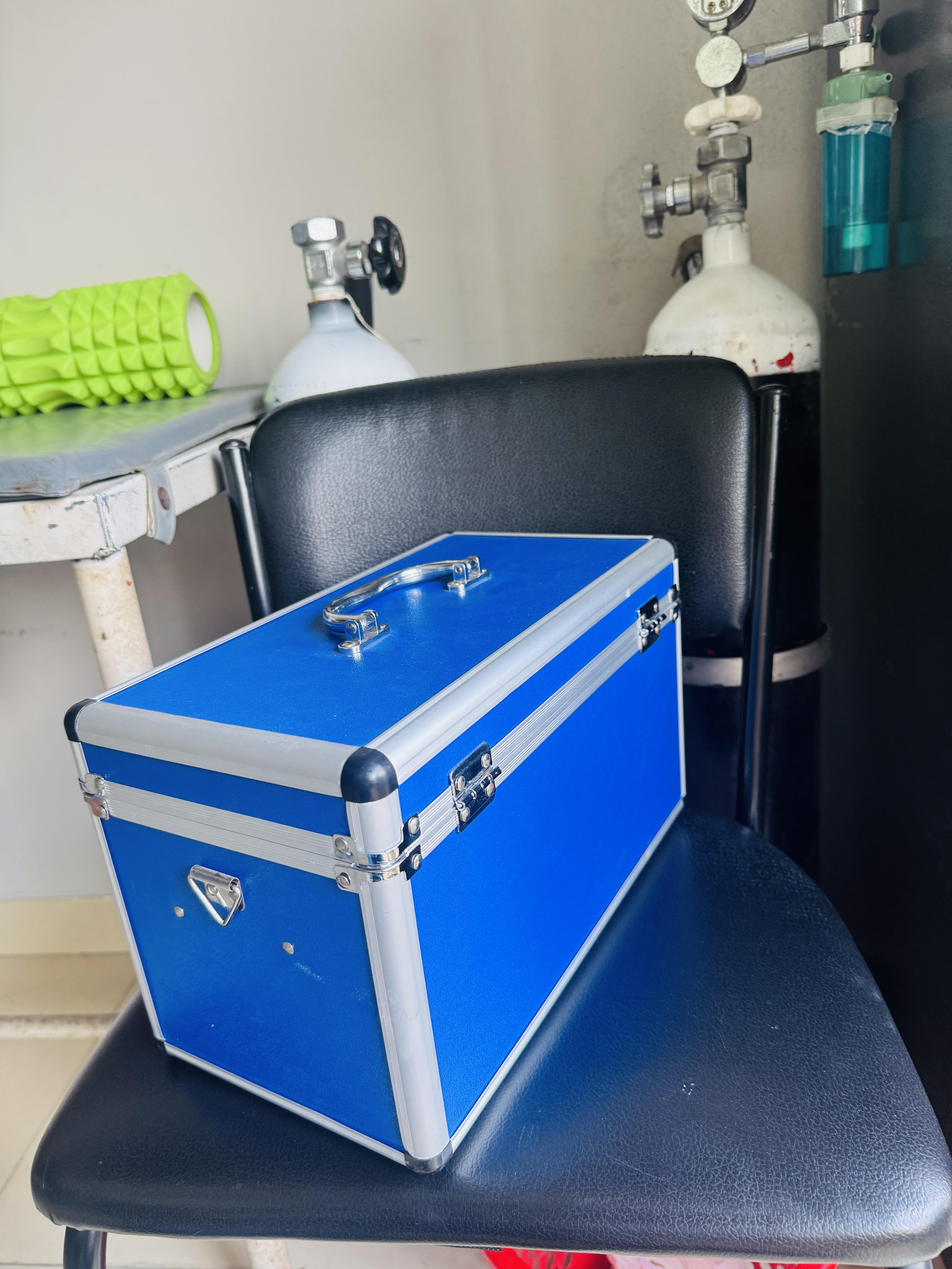FirstAidBox: (40, 506, 722, 1182)
